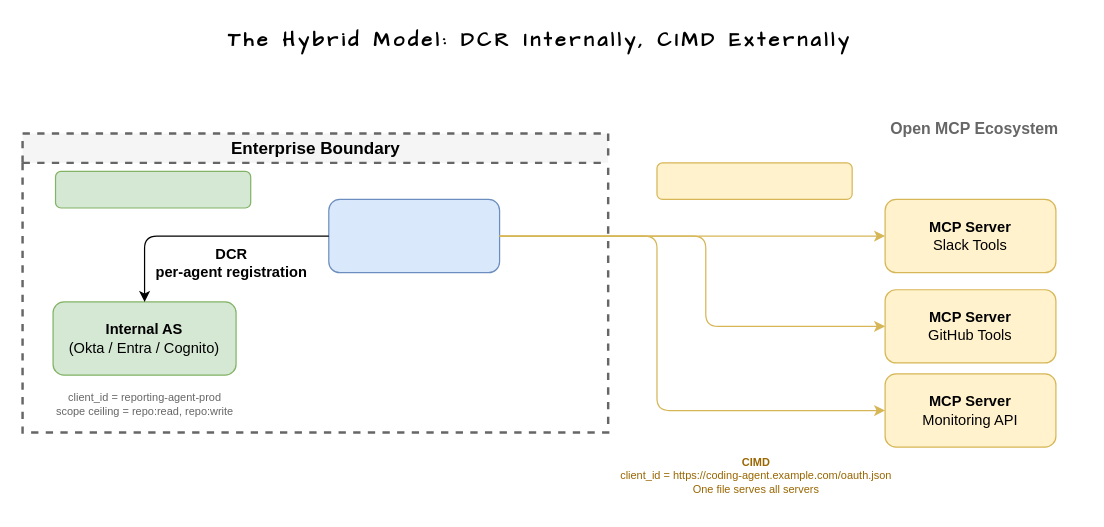
The diagram is 1104 pixels wide and 527 high, and some of its shapes have lost their labels. The shapes that lost their labels are listed below. From the top down, each one's centre as x and y in pixels, then its label:
At [152,189]: "DCR (internal governance)".
At [754,180]: "CIMD (open federation)".
At [414,235]: "coding-agent".
